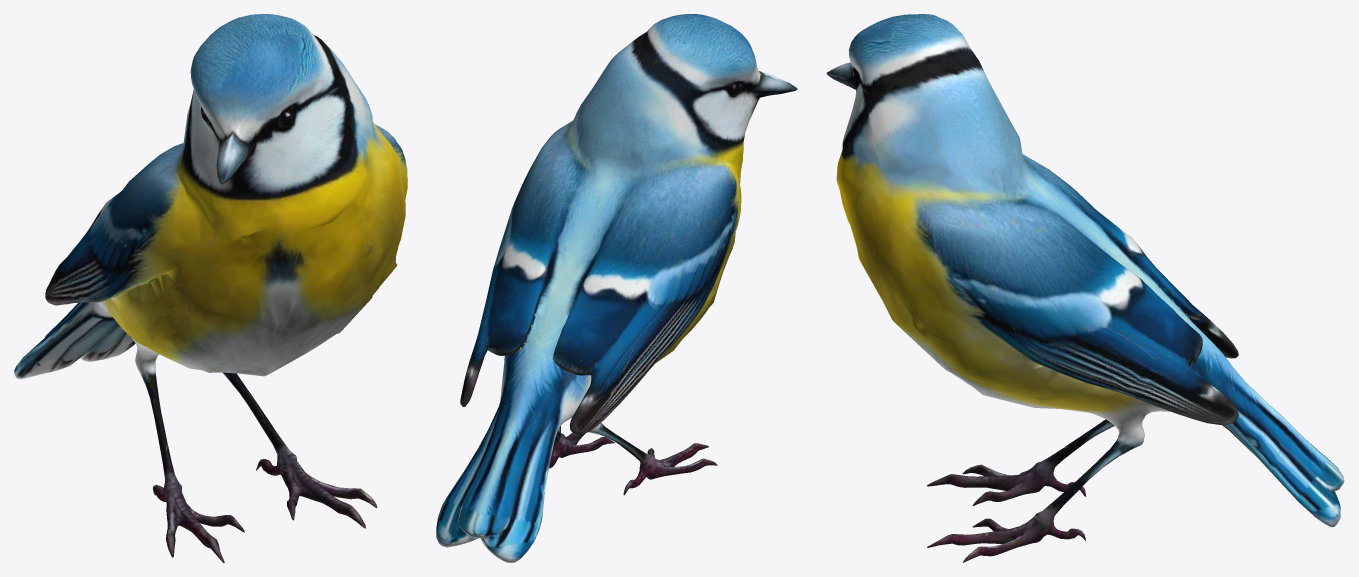
Rendered from bird-pimpelmees.glb.
The picture shows the model from 3 angles, left to right: view 1: azimuth 30°, elevation 25°; view 2: azimuth 150°, elevation 25°; view 3: azimuth 270°, elevation 25°; orthographic projection. The views are drawn at different scales.
Bounding box in the file's own units: 0.9666 × 1.91 × 1.87.
1 material, 1 textured.
